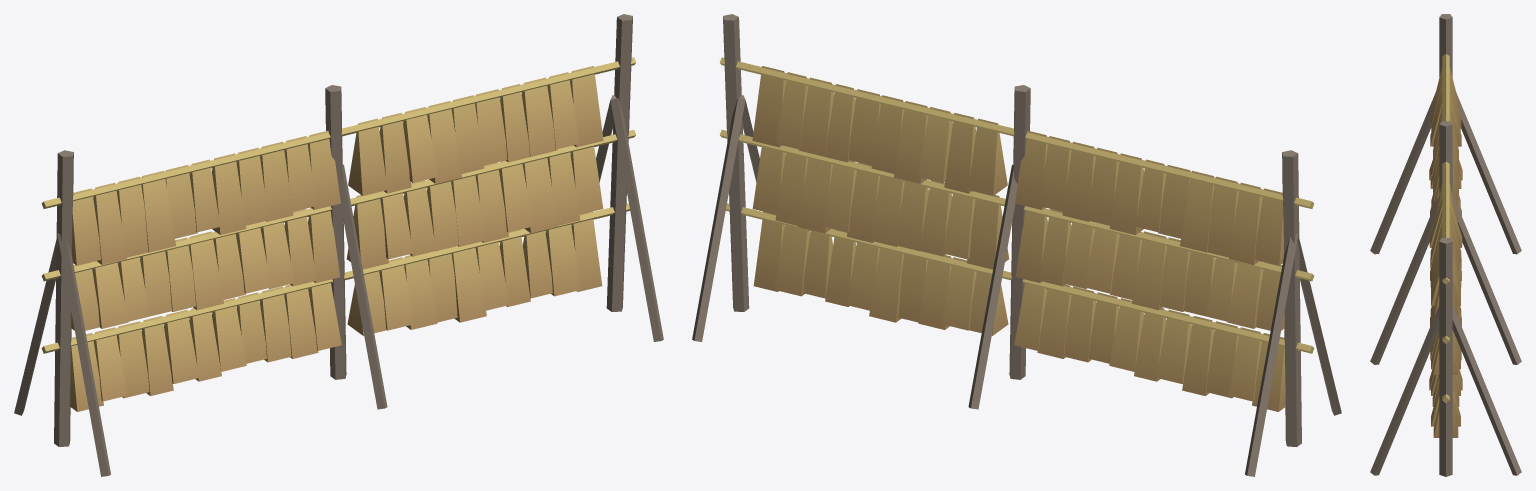
Rendered from hazagi.glb.
3 views of the same model, side by side, from view 1: azimuth 30°, elevation 25°; view 2: azimuth 150°, elevation 25°; view 3: azimuth 270°, elevation 25° (orthographic). The views are drawn at different scales.
Parts seen in each view (by area): view 1: hazagi; view 2: hazagi; view 3: hazagi.
Boxes of the visible parts, x1,y1,x2,y2 form: hazagi: (14, 14, 663, 476); hazagi: (692, 14, 1341, 476); hazagi: (1370, 14, 1521, 476).
Bounding box in the file's own units: 4.7 × 2.21 × 1.27.
